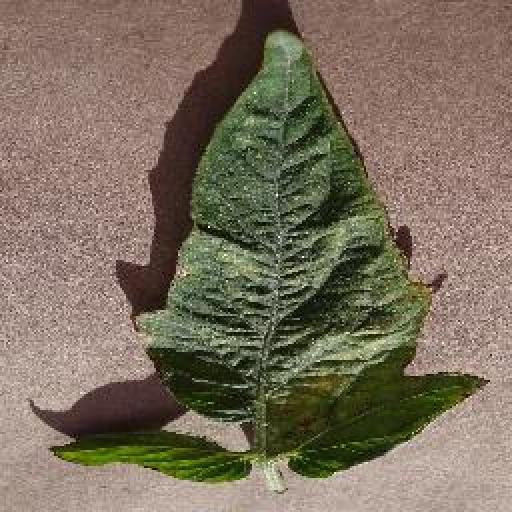Spider Mites: (130, 24, 434, 424)
